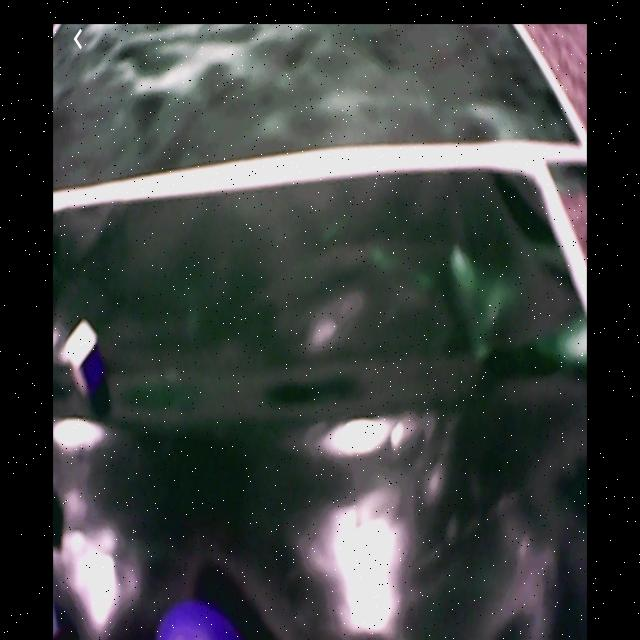ball: (159, 603, 237, 640)
